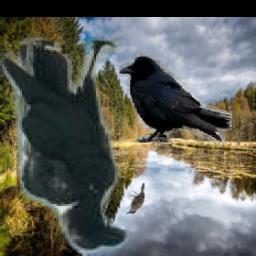Crow: (0, 38, 129, 253), (119, 54, 232, 143)
Cuckoo: (127, 181, 146, 213)
